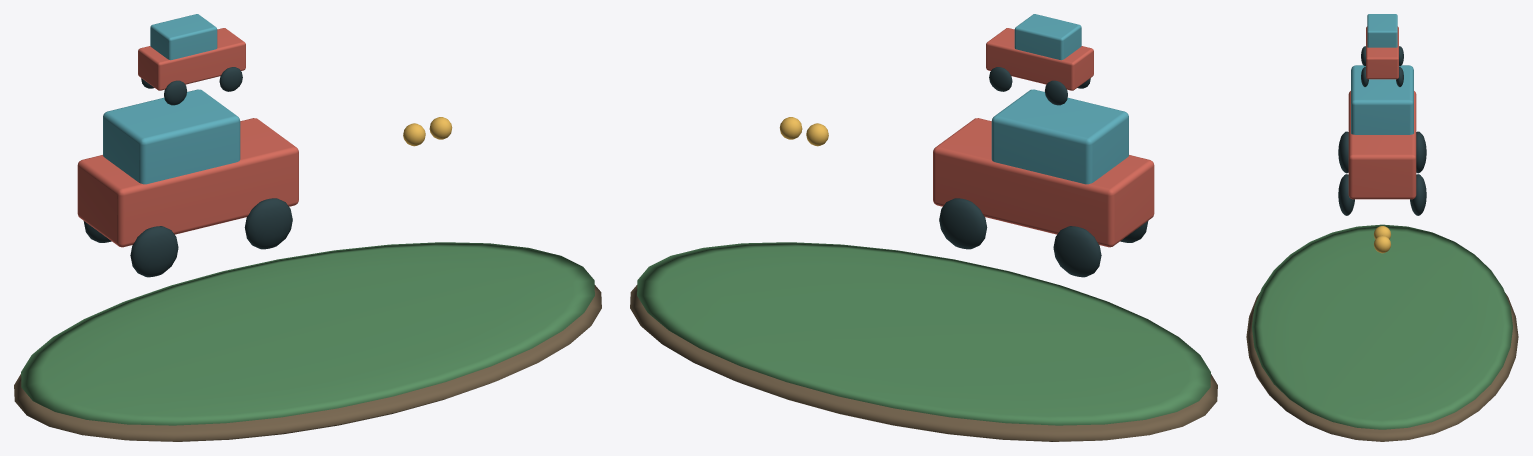
The model's file is complete-first-vehicle-counter-pair.glb.
3 views of the same model, side by side, from view 1: azimuth 30°, elevation 25°; view 2: azimuth 150°, elevation 25°; view 3: azimuth 270°, elevation 25° (orthographic). The views are drawn at different scales.
Visible parts, largest first — view 1: complete-first-vehicle-counter-pair_surface_01, complete-first-vehicle-counter-pair_surface_02, complete-first-vehicle-counter-pair_surface_03, complete-first-vehicle-counter-pair_surface_00, complete-first-vehicle-counter-pair_surface_04, complete-first-vehicle-counter-pair_surface_05; view 2: complete-first-vehicle-counter-pair_surface_01, complete-first-vehicle-counter-pair_surface_02, complete-first-vehicle-counter-pair_surface_03, complete-first-vehicle-counter-pair_surface_00, complete-first-vehicle-counter-pair_surface_04, complete-first-vehicle-counter-pair_surface_05; view 3: complete-first-vehicle-counter-pair_surface_01, complete-first-vehicle-counter-pair_surface_02, complete-first-vehicle-counter-pair_surface_03, complete-first-vehicle-counter-pair_surface_00, complete-first-vehicle-counter-pair_surface_04, complete-first-vehicle-counter-pair_surface_05.
Boxes of the visible parts, left/top/right/bottom form: complete-first-vehicle-counter-pair_surface_01: left=21, top=242, right=594, bottom=425; complete-first-vehicle-counter-pair_surface_02: left=77, top=28, right=298, bottom=247; complete-first-vehicle-counter-pair_surface_03: left=103, top=14, right=240, bottom=184; complete-first-vehicle-counter-pair_surface_00: left=14, top=285, right=601, bottom=441; complete-first-vehicle-counter-pair_surface_04: left=83, top=67, right=292, bottom=277; complete-first-vehicle-counter-pair_surface_05: left=403, top=117, right=452, bottom=146; complete-first-vehicle-counter-pair_surface_01: left=637, top=242, right=1210, bottom=425; complete-first-vehicle-counter-pair_surface_02: left=933, top=28, right=1154, bottom=247; complete-first-vehicle-counter-pair_surface_03: left=991, top=14, right=1128, bottom=184; complete-first-vehicle-counter-pair_surface_00: left=630, top=285, right=1217, bottom=441; complete-first-vehicle-counter-pair_surface_04: left=939, top=67, right=1148, bottom=277; complete-first-vehicle-counter-pair_surface_05: left=779, top=117, right=828, bottom=146; complete-first-vehicle-counter-pair_surface_01: left=1252, top=224, right=1512, bottom=429; complete-first-vehicle-counter-pair_surface_02: left=1348, top=26, right=1416, bottom=199; complete-first-vehicle-counter-pair_surface_03: left=1351, top=14, right=1413, bottom=134; complete-first-vehicle-counter-pair_surface_00: left=1246, top=293, right=1518, bottom=441; complete-first-vehicle-counter-pair_surface_04: left=1338, top=46, right=1426, bottom=215; complete-first-vehicle-counter-pair_surface_05: left=1373, top=226, right=1391, bottom=253.
Bounding box in the file's own units: 4.56 × 2.85 × 2.5.
